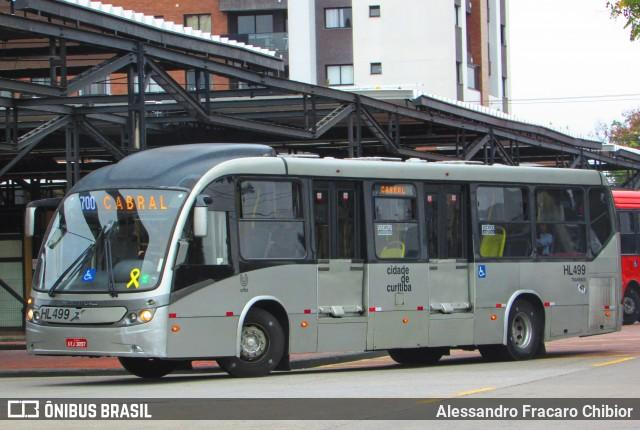CABRAL: (99, 192, 171, 213)
